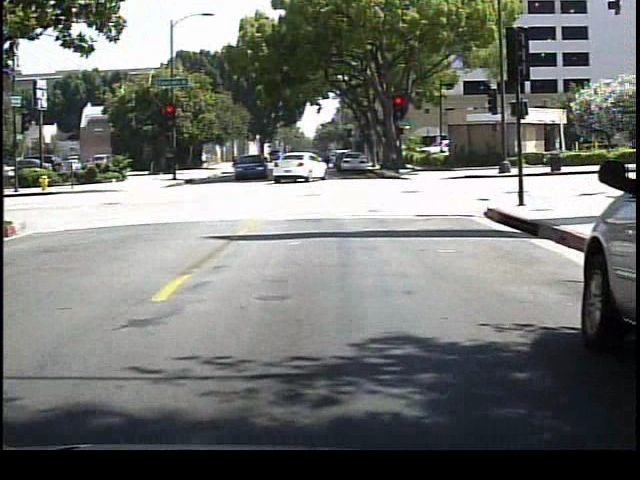person: (317, 145, 333, 180)
